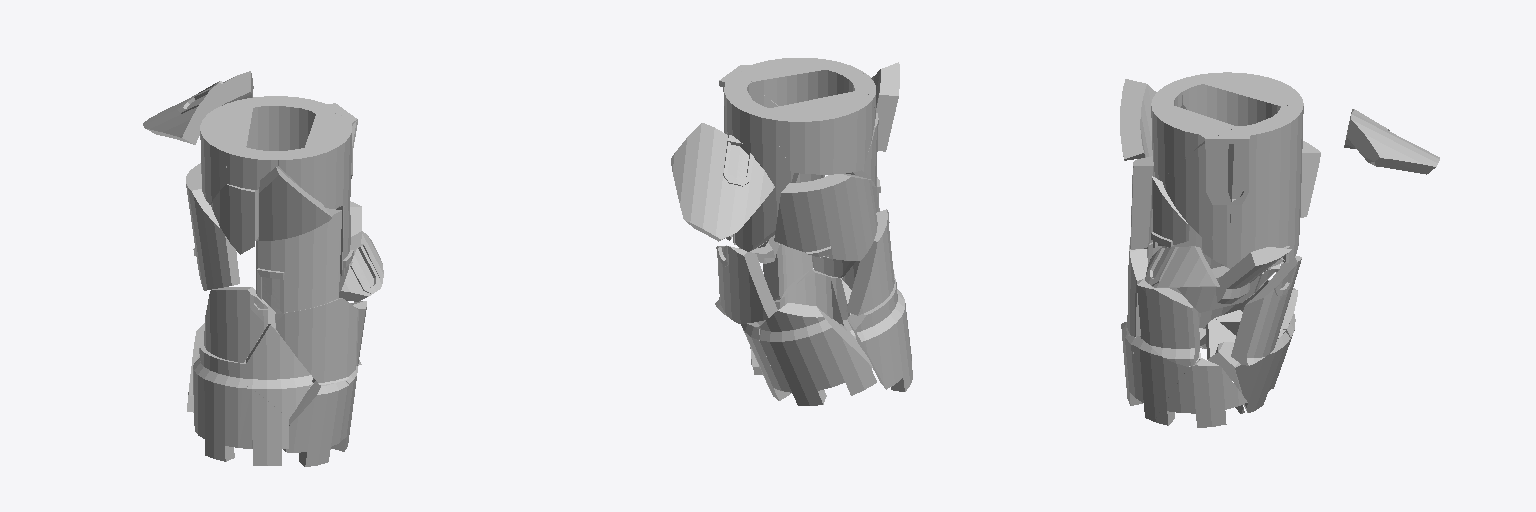
Rendered from destruction_tower_000034.obj.
The picture shows the model from 3 angles: view 1: azimuth 30°, elevation 25°; view 2: azimuth 150°, elevation 25°; view 3: azimuth 270°, elevation 25°; orthographic projection.
Visible parts, largest first — view 1: tower.001_cell.024_Mesh.024, tower.001_cell.021_Mesh.021, tower.001_cell.028_Mesh.028, tower.001_cell.006_Mesh.006, tower.001_cell.009_Mesh.009, tower.001_cell.011_Mesh.011, tower.001_cell.013_Mesh.013, tower.001_cell.002_Mesh.002, tower.001_cell.003_Mesh.003, tower.001_cell.015_Mesh.015, tower.001_cell.017_Mesh.017, tower.001_cell.025_Mesh.025 (+7 smaller); view 2: tower.001_cell.025_Mesh.025, tower.001_cell.007_Mesh.007, tower.001_cell.003_Mesh.003, tower.001_cell.015_Mesh.015, tower.001_cell.017_Mesh.017, tower.001_cell.028_Mesh.028, tower.001_cell.005_Mesh.005, tower.001_cell.012_Mesh.012, tower.001_cell.009_Mesh.009, tower.001_cell_Mesh, tower.001_cell.002_Mesh.002, tower.001_cell.023_Mesh.023 (+5 smaller); view 3: tower.001_cell.017_Mesh.017, tower.001_cell.020_Mesh.020, tower.001_cell.015_Mesh.015, tower.001_cell_Mesh, tower.001_cell.028_Mesh.028, tower.001_cell.012_Mesh.012, tower.001_cell.030_Mesh.030, tower.001_cell.025_Mesh.025, tower.001_cell.023_Mesh.023, tower.001_cell.026_Mesh.026, tower.001_cell.010_Mesh.010, tower.001_cell.002_Mesh.002 (+12 smaller).
Part boxes in pixels (left/top/right/bottom): tower.001_cell.024_Mesh.024: left=256, top=208, right=341, bottom=313; tower.001_cell.021_Mesh.021: left=275, top=298, right=358, bottom=384; tower.001_cell.028_Mesh.028: left=273, top=114, right=357, bottom=208; tower.001_cell.006_Mesh.006: left=203, top=386, right=288, bottom=465; tower.001_cell.009_Mesh.009: left=204, top=287, right=267, bottom=362; tower.001_cell.011_Mesh.011: left=283, top=380, right=348, bottom=466; tower.001_cell.013_Mesh.013: left=246, top=324, right=312, bottom=418; tower.001_cell.002_Mesh.002: left=259, top=167, right=331, bottom=240; tower.001_cell.003_Mesh.003: left=186, top=163, right=239, bottom=290; tower.001_cell.015_Mesh.015: left=200, top=101, right=252, bottom=204; tower.001_cell.017_Mesh.017: left=237, top=96, right=321, bottom=239; tower.001_cell.025_Mesh.025: left=143, top=71, right=253, bottom=144; tower.001_cell.025_Mesh.025: left=671, top=123, right=774, bottom=241; tower.001_cell.007_Mesh.007: left=759, top=303, right=876, bottom=405; tower.001_cell.003_Mesh.003: left=774, top=174, right=877, bottom=260; tower.001_cell.015_Mesh.015: left=765, top=91, right=874, bottom=174; tower.001_cell.017_Mesh.017: left=724, top=85, right=798, bottom=251; tower.001_cell.028_Mesh.028: left=741, top=58, right=863, bottom=106; tower.001_cell.005_Mesh.005: left=847, top=279, right=907, bottom=389; tower.001_cell.012_Mesh.012: left=715, top=245, right=777, bottom=323; tower.001_cell.009_Mesh.009: left=846, top=209, right=894, bottom=315; tower.001_cell_Mesh: left=763, top=244, right=812, bottom=300; tower.001_cell.002_Mesh.002: left=871, top=62, right=899, bottom=151; tower.001_cell.023_Mesh.023: left=774, top=269, right=838, bottom=323; tower.001_cell.017_Mesh.017: left=1255, top=103, right=1303, bottom=262; tower.001_cell.020_Mesh.020: left=1162, top=133, right=1233, bottom=237; tower.001_cell.015_Mesh.015: left=1203, top=72, right=1302, bottom=125; tower.001_cell_Mesh: left=1137, top=278, right=1199, bottom=366; tower.001_cell.028_Mesh.028: left=1151, top=89, right=1234, bottom=180; tower.001_cell.012_Mesh.012: left=1231, top=256, right=1301, bottom=365; tower.001_cell.030_Mesh.030: left=1154, top=358, right=1247, bottom=427; tower.001_cell.025_Mesh.025: left=1344, top=109, right=1439, bottom=174; tower.001_cell.023_Mesh.023: left=1133, top=335, right=1200, bottom=421; tower.001_cell.026_Mesh.026: left=1228, top=124, right=1254, bottom=237; tower.001_cell.010_Mesh.010: left=1145, top=246, right=1219, bottom=287; tower.001_cell.002_Mesh.002: left=1120, top=79, right=1156, bottom=160.
Bounding box in the file's own units: 60.81 × 94 × 89.75.